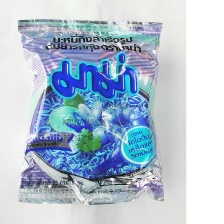snack: (8, 7, 172, 213)
